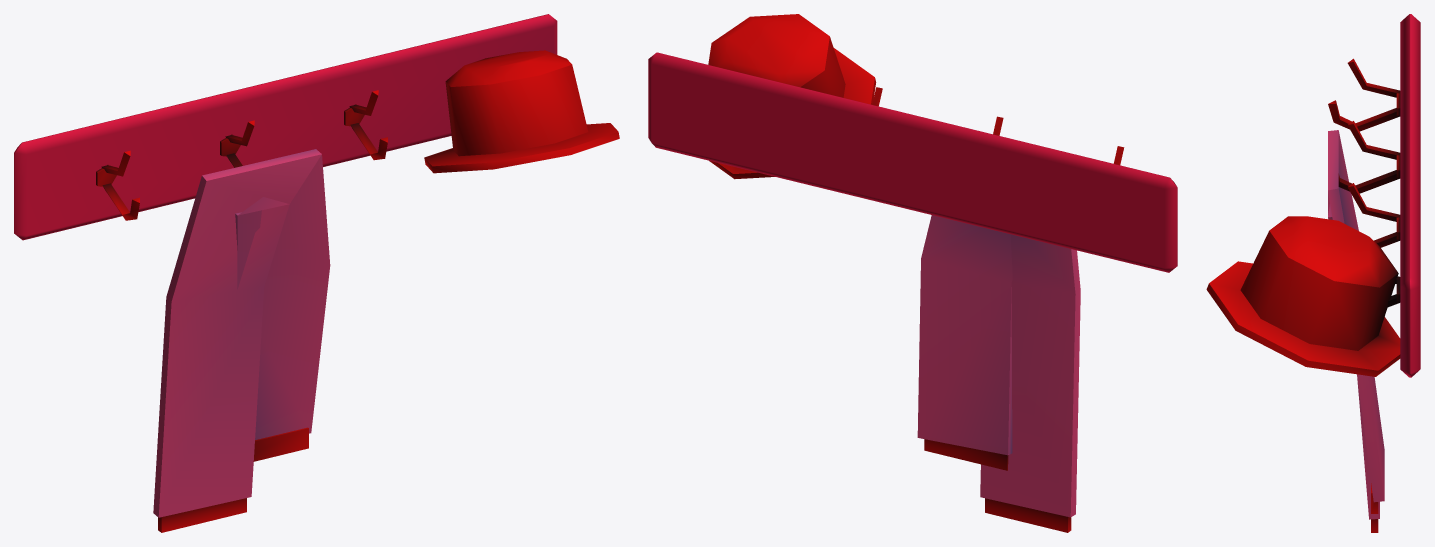
The model's file is CI_Office_CoatHooks.glb.
3 views of the same model, side by side, from view 1: azimuth 30°, elevation 25°; view 2: azimuth 150°, elevation 25°; view 3: azimuth 270°, elevation 25° (orthographic). The views are drawn at different scales.
Parts seen in each view (by area): view 1: CI_Office_CoatHooks; view 2: CI_Office_CoatHooks; view 3: CI_Office_CoatHooks.
Part boxes in pixels (left/top/right/bottom): CI_Office_CoatHooks: left=14, top=14, right=619, bottom=532; CI_Office_CoatHooks: left=648, top=14, right=1177, bottom=532; CI_Office_CoatHooks: left=1206, top=14, right=1420, bottom=532.
Size of the model in its own units: 0.705 by 0.5158 by 0.2331.
